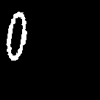chain: (7, 12, 26, 59)
